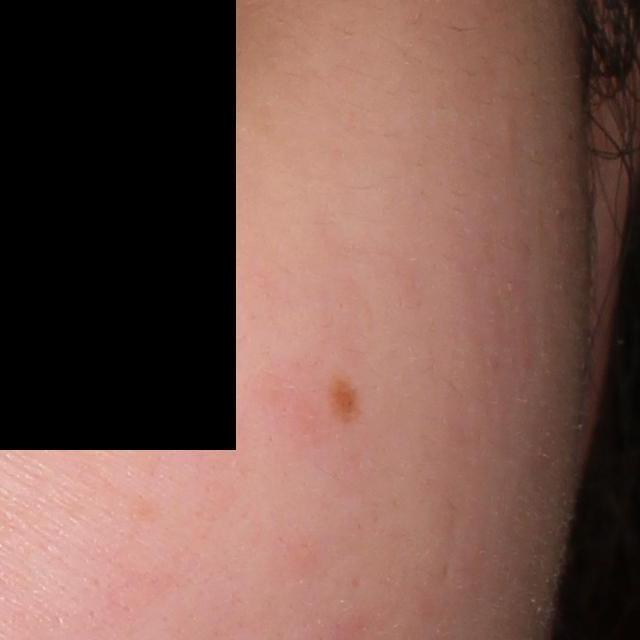melasma: (325, 371, 369, 432)
